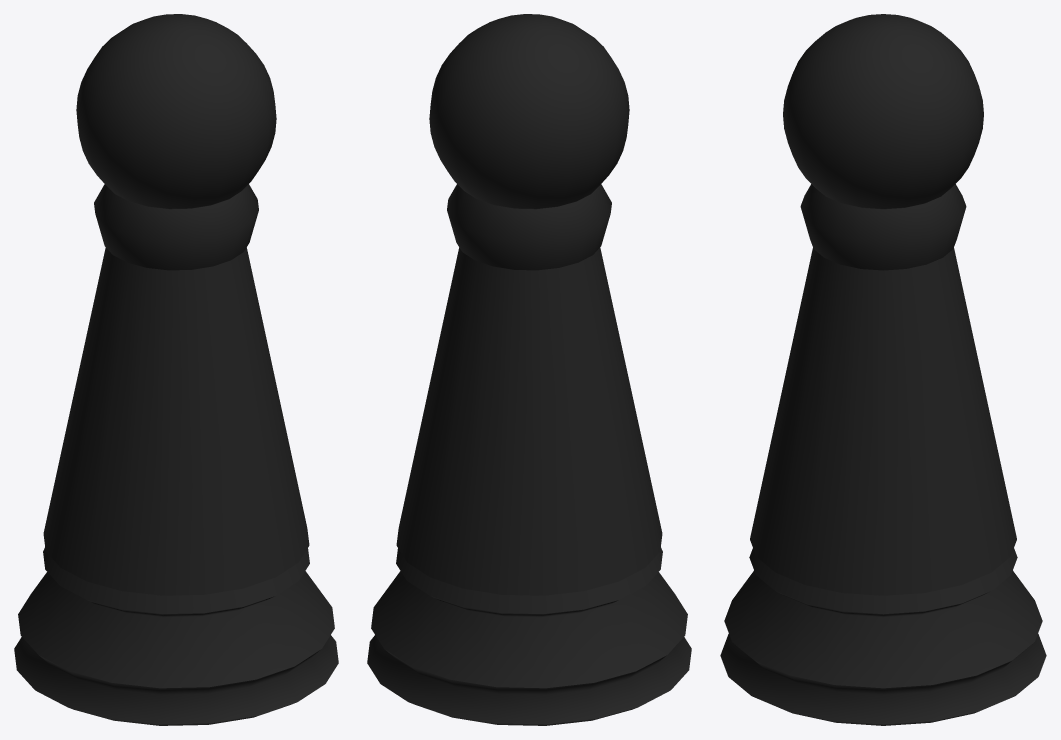
The model's file is Black_Pawn.glb.
The picture shows the model from 3 angles, left to right: view 1: azimuth 30°, elevation 25°; view 2: azimuth 150°, elevation 25°; view 3: azimuth 270°, elevation 25°; orthographic projection.
Parts seen in each view (by area): view 1: whitePawn; view 2: whitePawn; view 3: whitePawn.
Part boxes in pixels (x1=…): whitePawn: x1=14, y1=14, x2=338, y2=725; whitePawn: x1=367, y1=14, x2=691, y2=725; whitePawn: x1=720, y1=14, x2=1046, y2=725.
Bounding box in the file's own units: 2.12 × 4.57 × 2.12.
1 material, 1 textured.
